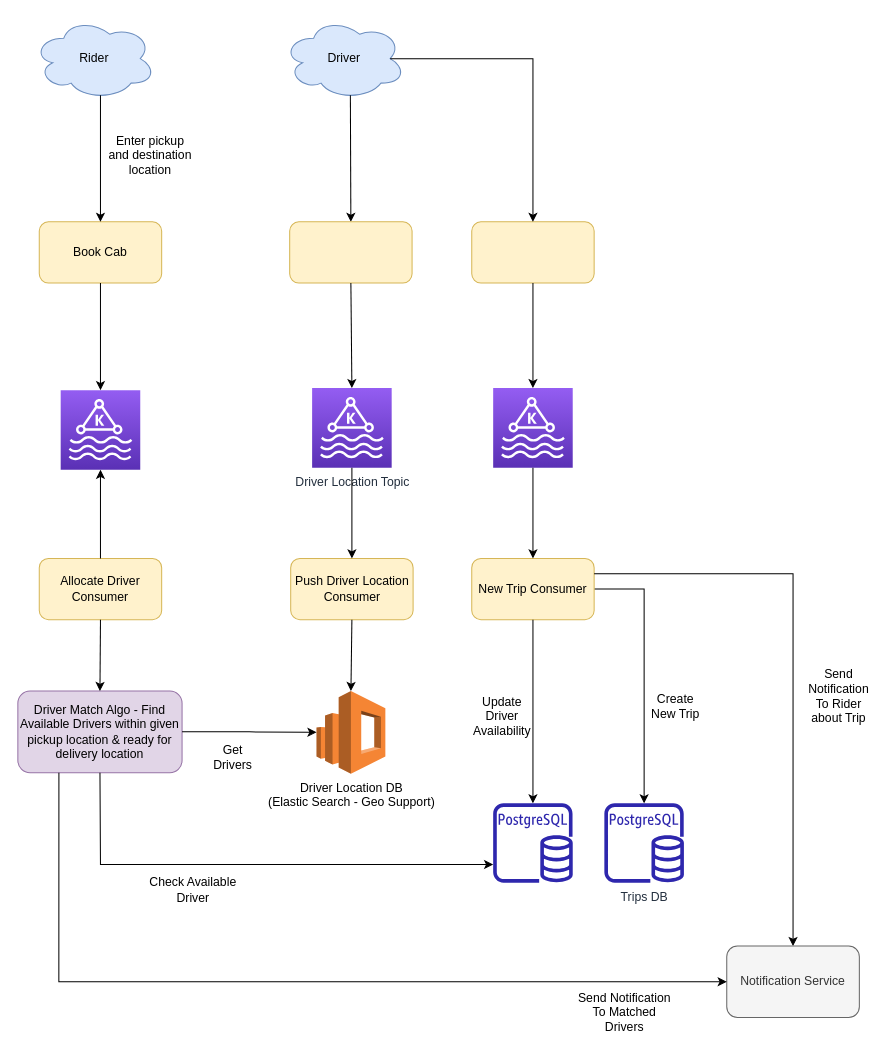
This 887x1052 diagram has some shape labels left out. Each missing label, with the centre of its shape:
Accept Trip: the point at 532,252
Allocate Driver topic: the point at 100,429
Drivers DB: the point at 532,842
New Trip Topic: the point at 532,427
Push Location: the point at 350,252
